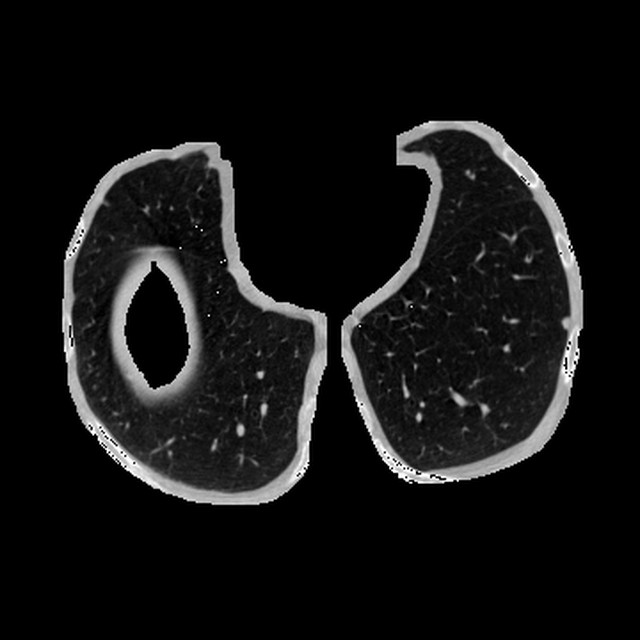PN: (560, 316, 571, 327)
